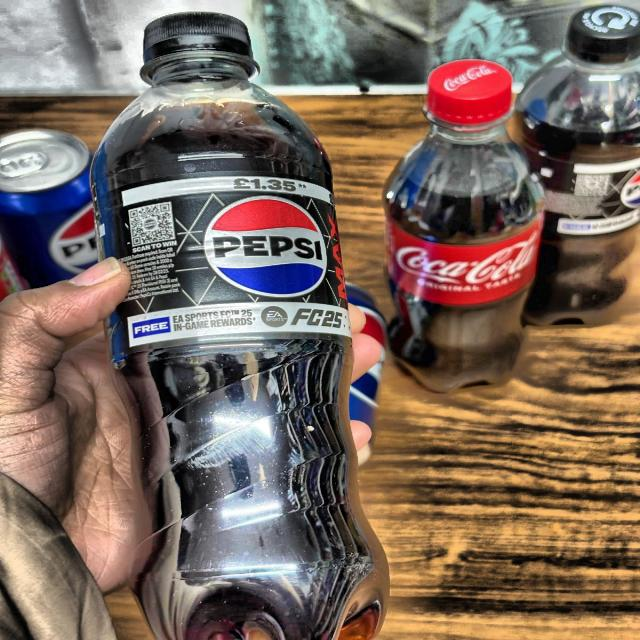coke-bottle: (392, 32, 544, 410)
pepsi-bottle: (126, 14, 406, 640), (525, 0, 640, 342)
pepsi-can: (5, 124, 112, 314)
